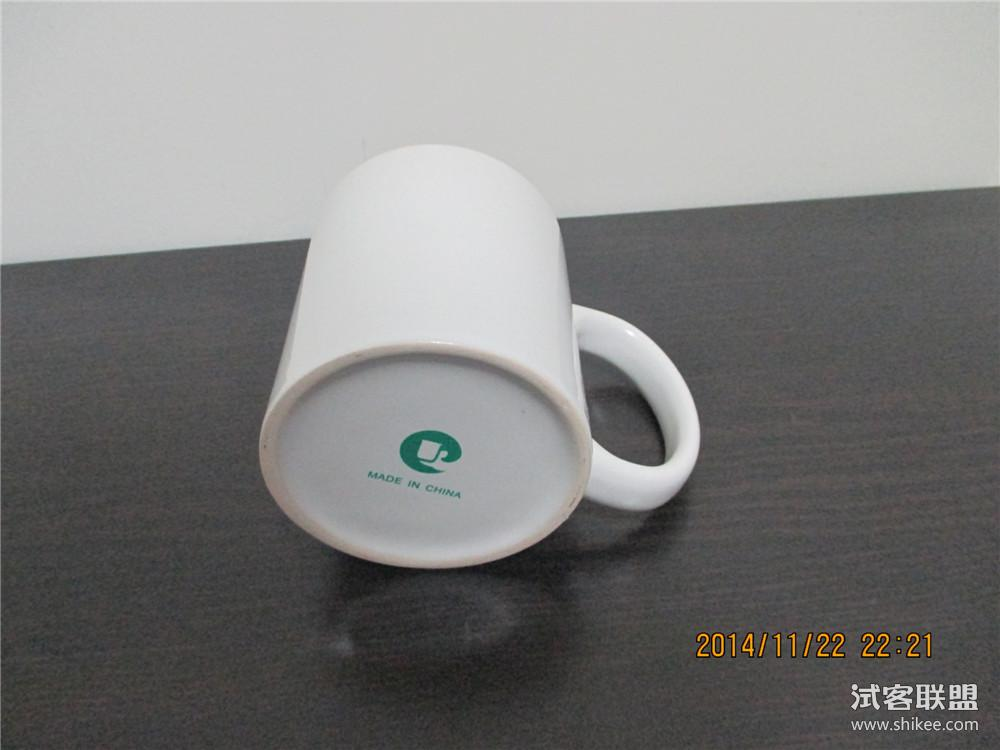cup: (250, 141, 703, 574)
